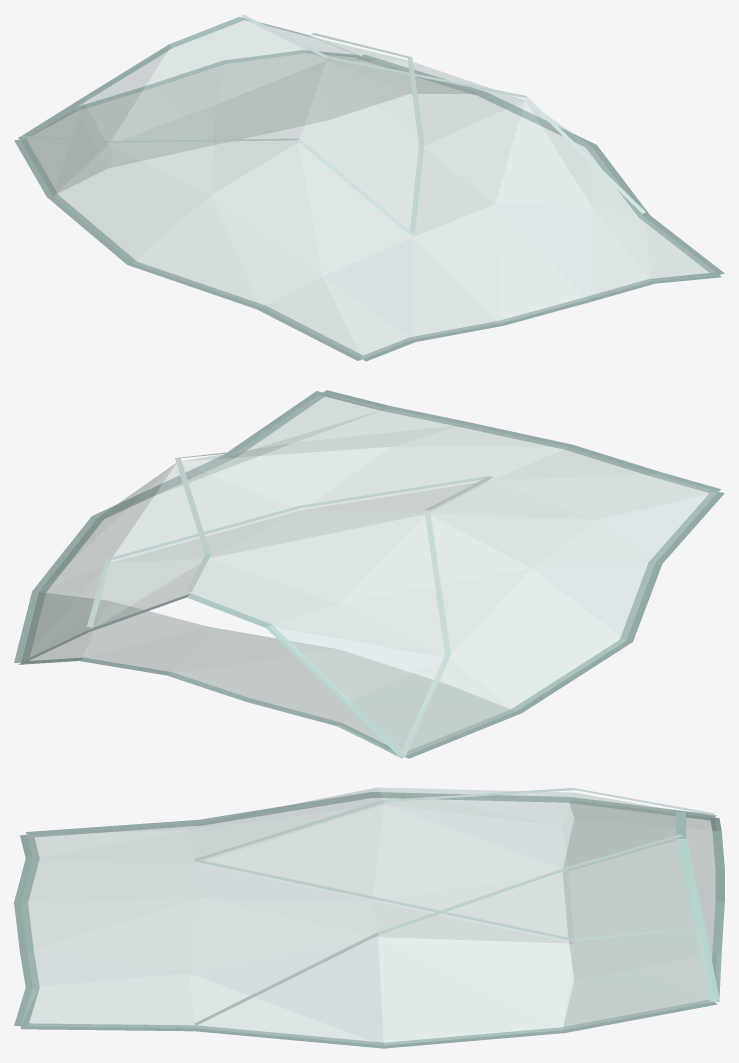
Rendered from bag_plastic_small.glb.
3 views of the same model, one above another, from view 1: azimuth 30°, elevation 25°; view 2: azimuth 150°, elevation 25°; view 3: azimuth 270°, elevation 25° (orthographic). The views are drawn at different scales.
Visible parts, largest first — view 1: block_upper folded film, block_shaded lining at open mouth, block_heat welded side seam (×8), block_fine creased reflection (×3), block_sealed bottom edge (×2), block_upper lip of open mouth; view 2: block_upper folded film, block_shaded lining at open mouth, block_heat welded side seam (×8), block_fine creased reflection (×5), block_sealed bottom edge (×2), block_upper lip of open mouth (×2); view 3: block_upper folded film, block_shaded lining at open mouth, block_heat welded side seam (×8), block_fine creased reflection (×6), block_sealed bottom edge (×4), block_upper lip of open mouth (×2), block_lower lip of open mouth.
Part boxes in pixels (x1,y1,x2,y2): block_upper folded film: (20, 19, 715, 358); block_shaded lining at open mouth: (21, 52, 479, 195); block_heat welded side seam (×8): (14, 54, 724, 360); block_fine creased reflection (×3): (297, 56, 645, 235); block_sealed bottom edge (×2): (410, 297, 591, 341); block_upper lip of open mouth: (81, 44, 172, 101); block_upper folded film: (21, 394, 717, 756); block_shaded lining at open mouth: (22, 592, 515, 755); block_heat welded side seam (×8): (14, 391, 724, 758); block_fine creased reflection (×5): (106, 458, 490, 753); block_sealed bottom edge (×2): (461, 422, 658, 476); block_upper lip of open mouth (×2): (266, 624, 406, 757); block_upper folded film: (21, 787, 714, 1045); block_shaded lining at open mouth: (563, 800, 716, 1029); block_heat welded side seam (×8): (21, 792, 717, 1048); block_fine creased reflection (×6): (194, 788, 574, 1025); block_sealed bottom edge (×4): (14, 858, 39, 1026); block_upper lip of open mouth (×2): (676, 838, 719, 1001); block_lower lip of open mouth: (712, 901, 724, 952).
Bounding box in the file's own units: 0.1253 × 0.0214 × 0.1467.
2 materials, 2 textured.
